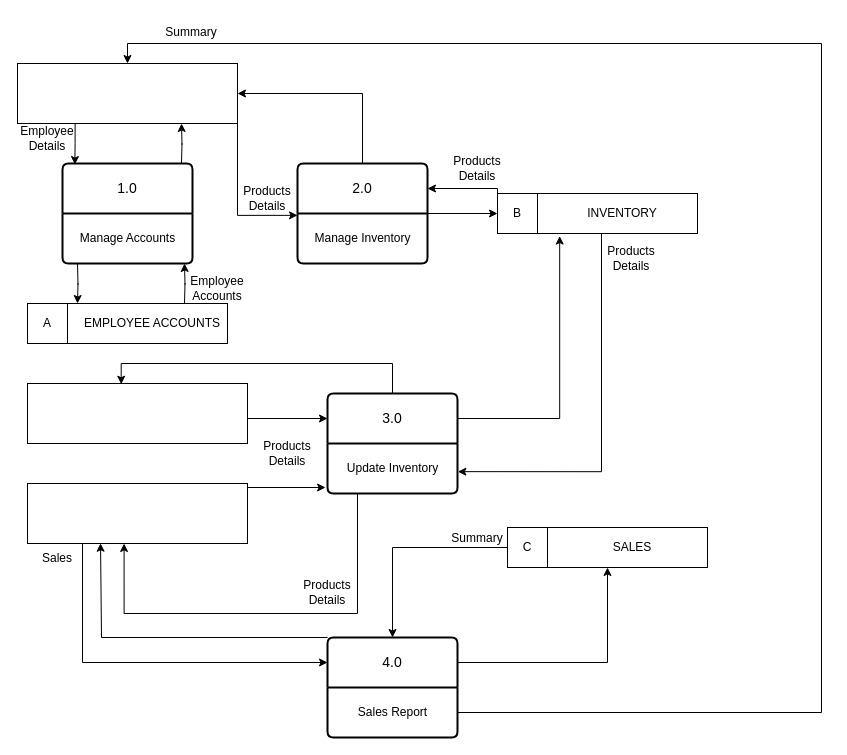
The diagram is 847 pixels wide and 755 high, and some of its shapes have lost their labels. Here are the shapes that lost their labels. From the top down, the centre of each, then its label:
[127,93]: MANAGER
[137,413]: STAFF
[137,513]: CASHIER
